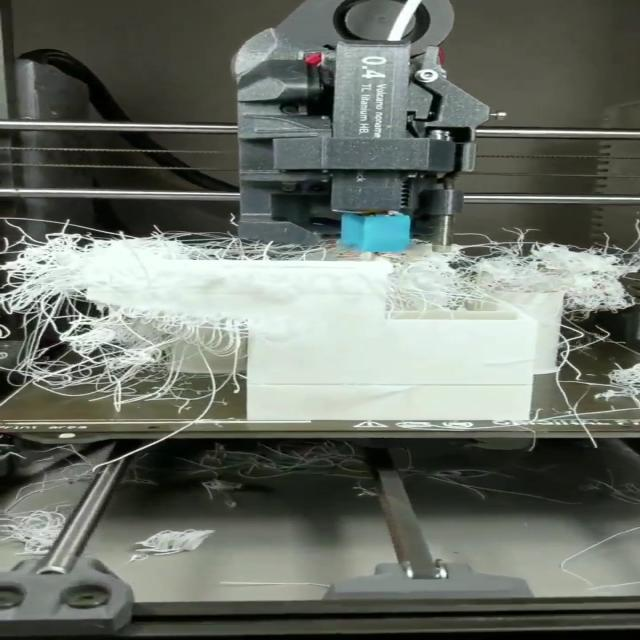spaghetti: (6, 220, 640, 419), (175, 450, 549, 498), (126, 519, 219, 567), (3, 505, 75, 562)
